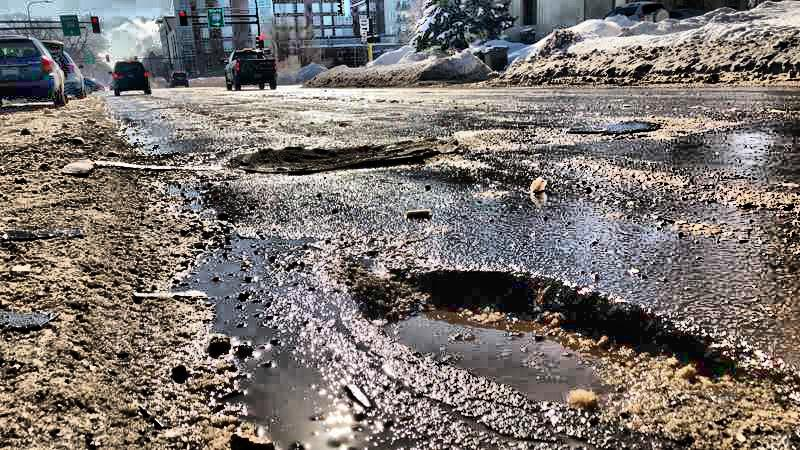pothole: (346, 259, 751, 450)
